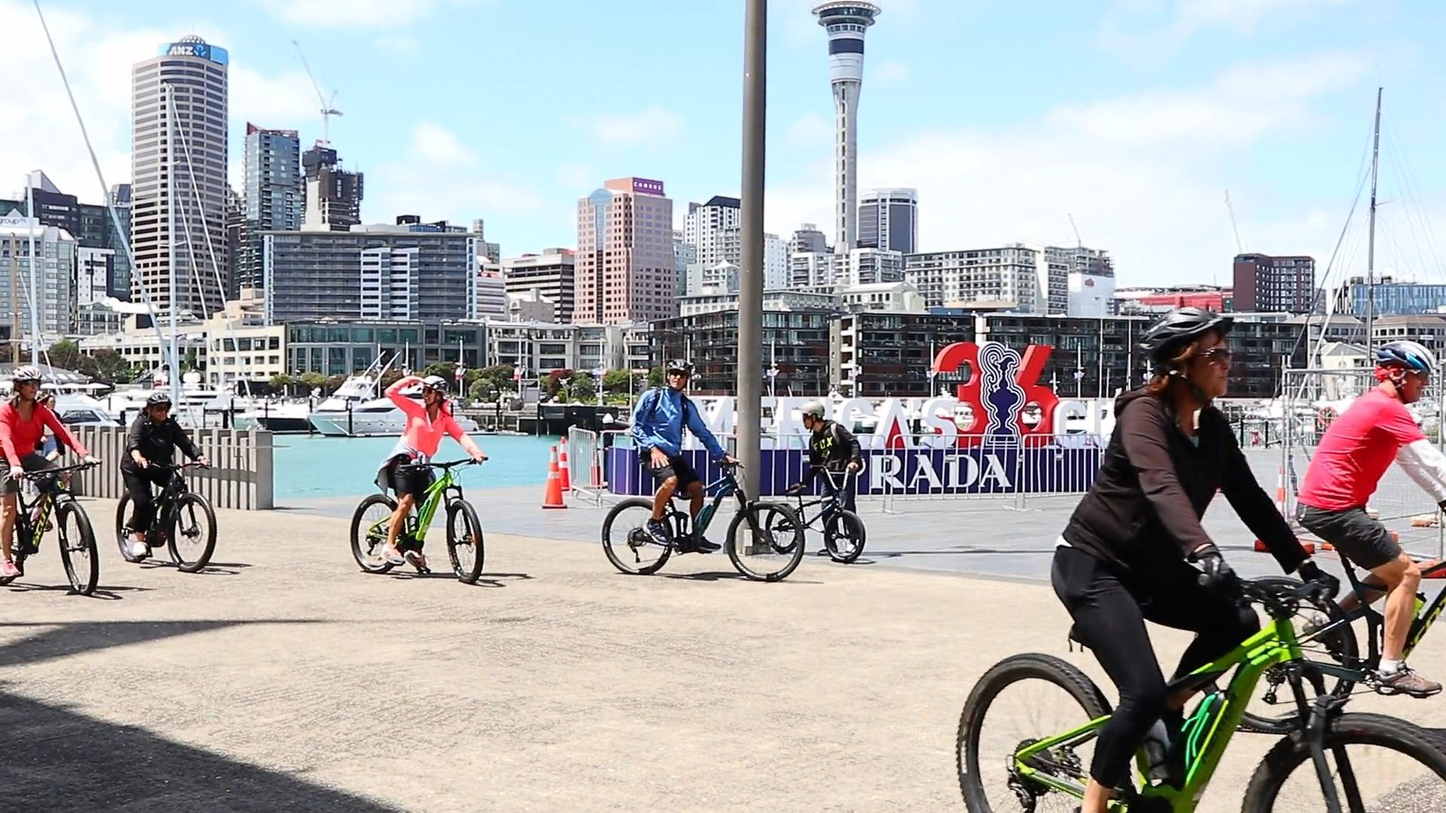bicyclist: (957, 307, 1446, 813), (1197, 339, 1446, 732), (602, 359, 806, 582), (350, 375, 488, 583), (0, 366, 102, 596), (116, 393, 217, 572)
helmet: (1130, 307, 1235, 406), (1374, 338, 1437, 405), (12, 366, 42, 401), (421, 376, 448, 411), (665, 359, 693, 392), (146, 393, 173, 422), (802, 401, 825, 433)
